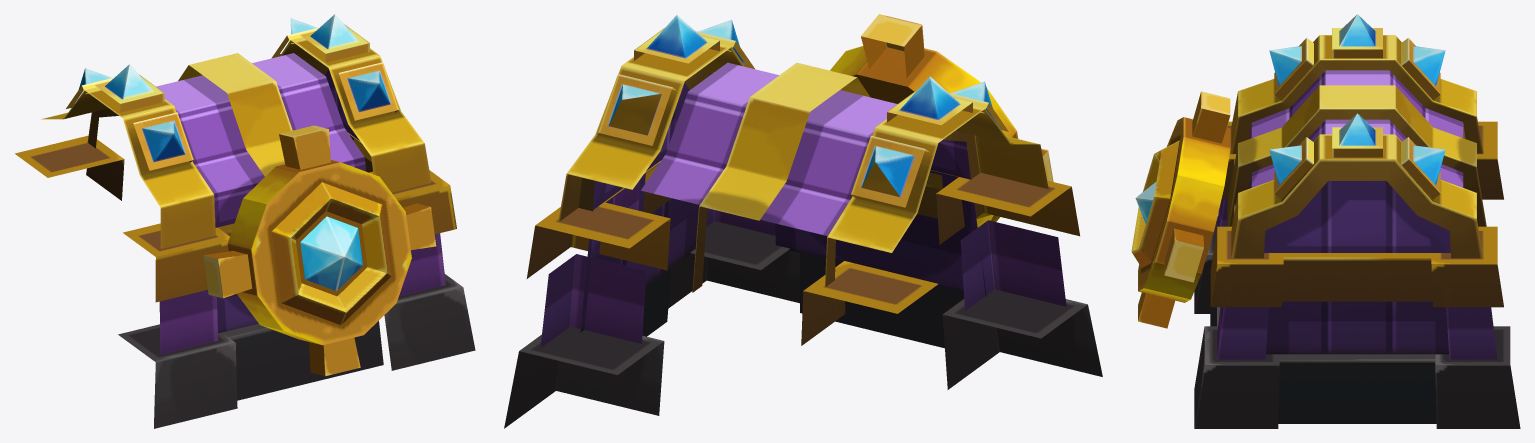
The model's file is B_Warehouse05.fbx.
The picture shows the model from 3 angles, left to right: view 1: azimuth 30°, elevation 25°; view 2: azimuth 150°, elevation 25°; view 3: azimuth 270°, elevation 25°; orthographic projection. The views are drawn at different scales.
Visible parts, largest first — view 1: B_Warehouse05_01, B_Warehouse05_02; view 2: B_Warehouse05_01, B_Warehouse05_02; view 3: B_Warehouse05_01, B_Warehouse05_02.
Part boxes in pixels (x1=…): B_Warehouse05_01: x1=15, y1=14, x2=475, y2=428; B_Warehouse05_02: x1=203, y1=125, x2=436, y2=376; B_Warehouse05_01: x1=504, y1=15, x2=1102, y2=428; B_Warehouse05_02: x1=830, y1=14, x2=1053, y2=227; B_Warehouse05_01: x1=1194, y1=14, x2=1520, y2=428; B_Warehouse05_02: x1=1131, y1=91, x2=1230, y2=328.
Size of the model in its own units: 4.98 by 4.3 by 5.27.
Materials: 1 (1 with a texture image).
